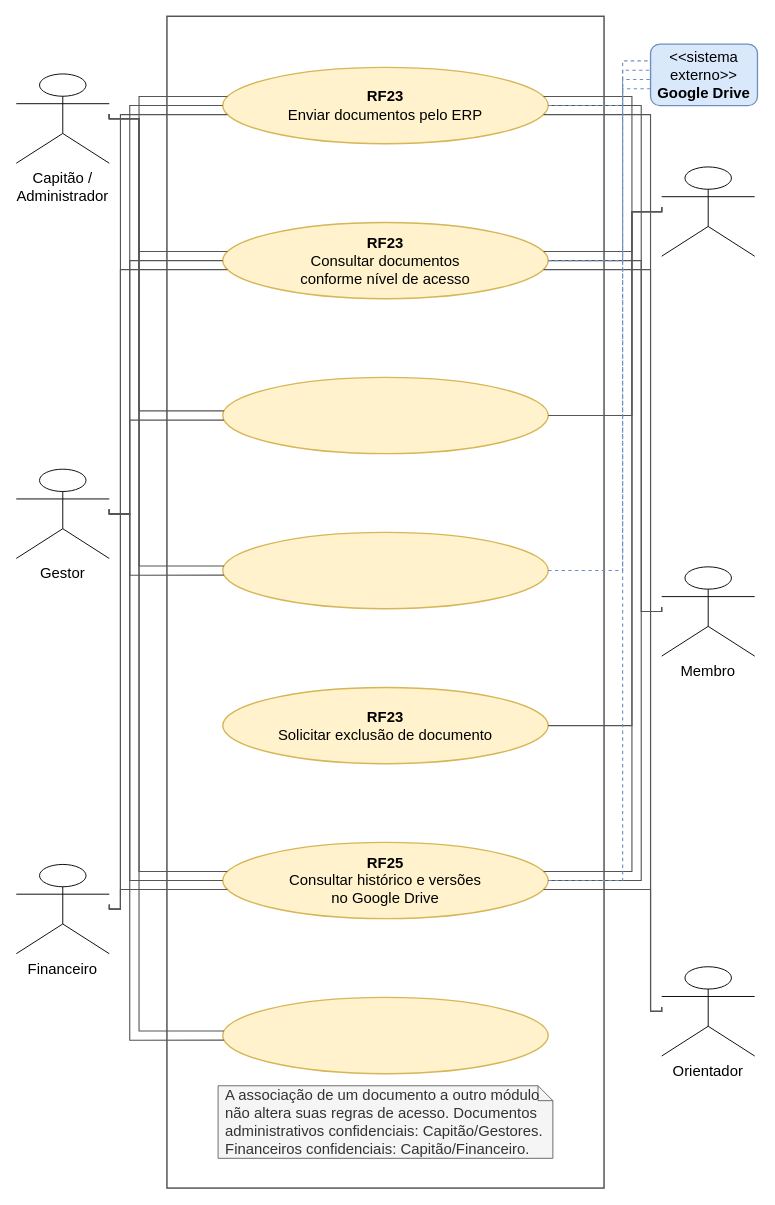
The diagram is 775 pixels wide and 1205 high, and some of its shapes have lost their labels. The box of each missing label's shape, as (x1, y1, x2, y2) in pixels:
ERP PROCOBAJA: (166, 15, 604, 1188)
Líder: (661, 166, 755, 256)
RF23 / RF24 Organizar e associar documentos ao contexto do projeto: (222, 376, 549, 454)
RF23 Alterar categoria ou nível de confidencialidade: (222, 996, 549, 1074)
RF23 Excluir documentos: (222, 531, 549, 609)
